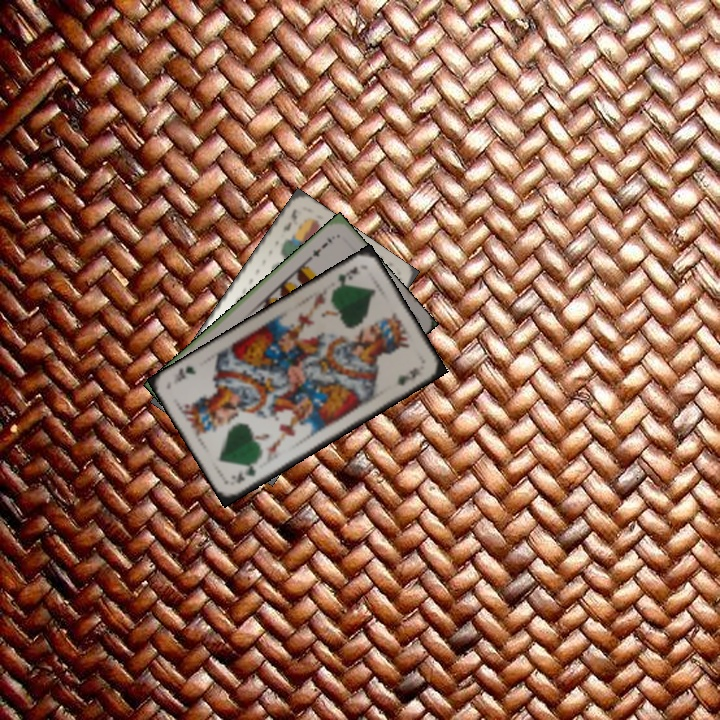E7: (305, 233, 335, 263)
EK: (278, 205, 300, 234)
GK: (331, 262, 361, 292), (233, 462, 259, 486)
